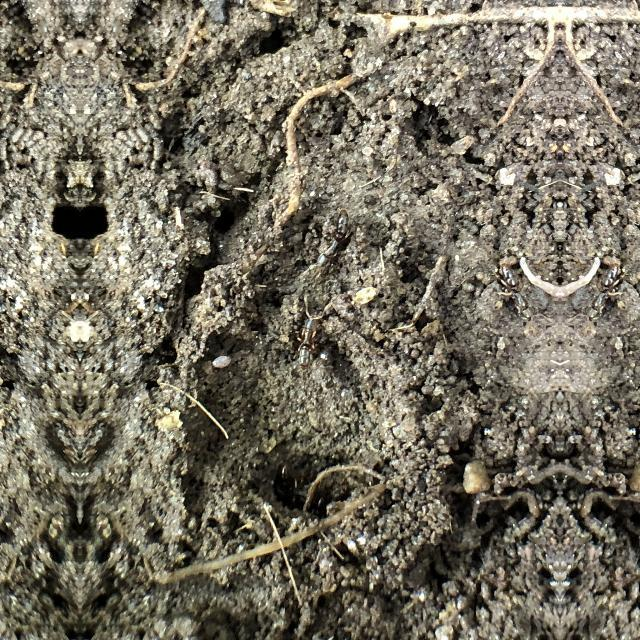Ponera: (260, 299, 338, 383), (297, 198, 367, 274)
